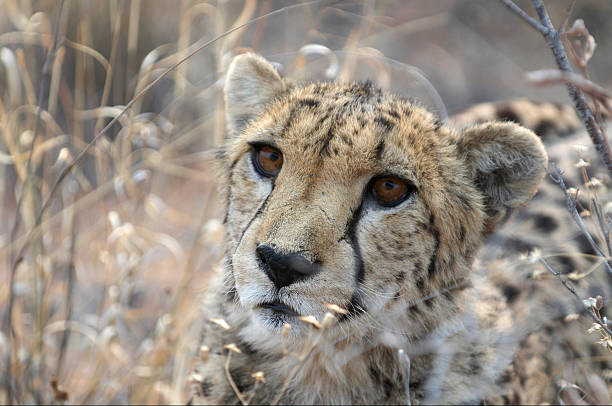cheetah: (185, 25, 558, 403)
